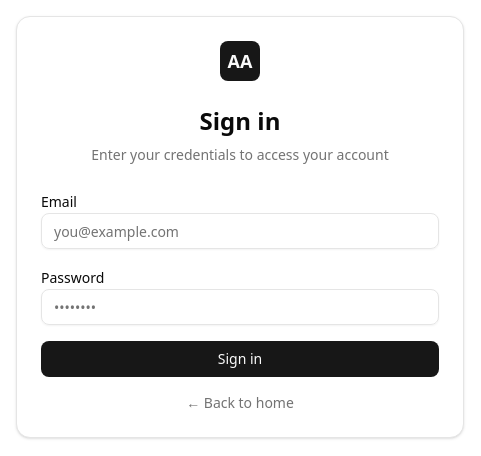
Test: LoginPage › loading state › should show loading state during submission
In the field labelled "Email": [240, 231] box [41, 213, 439, 249], type "test@example.com"
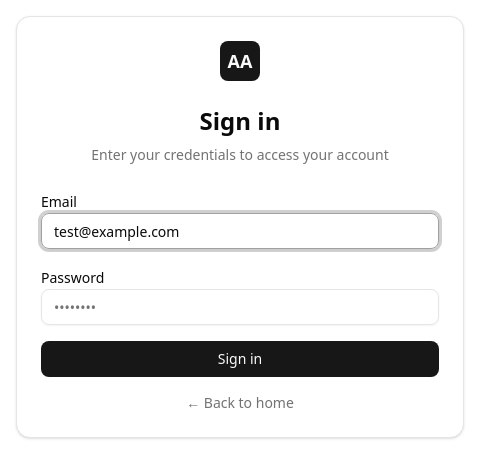
In the password field labelled "Password": [240, 307] box [41, 289, 439, 325], type "password123"
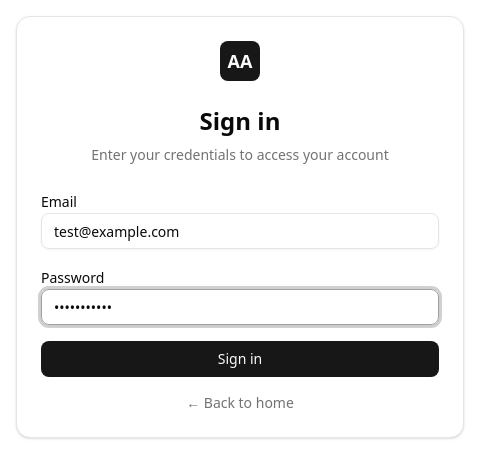
Click the button "Sign in": [240, 359] box [41, 341, 439, 377]
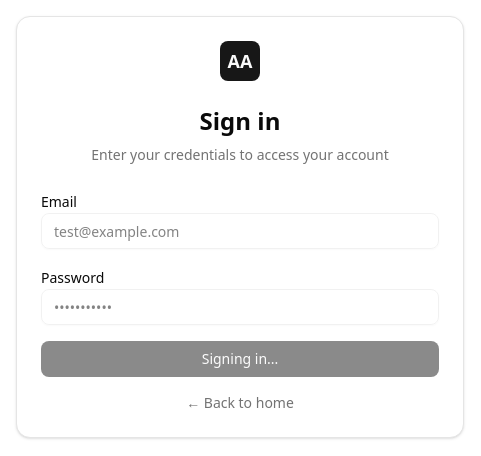
Expected: the button is disabled, [41, 341, 439, 377]
